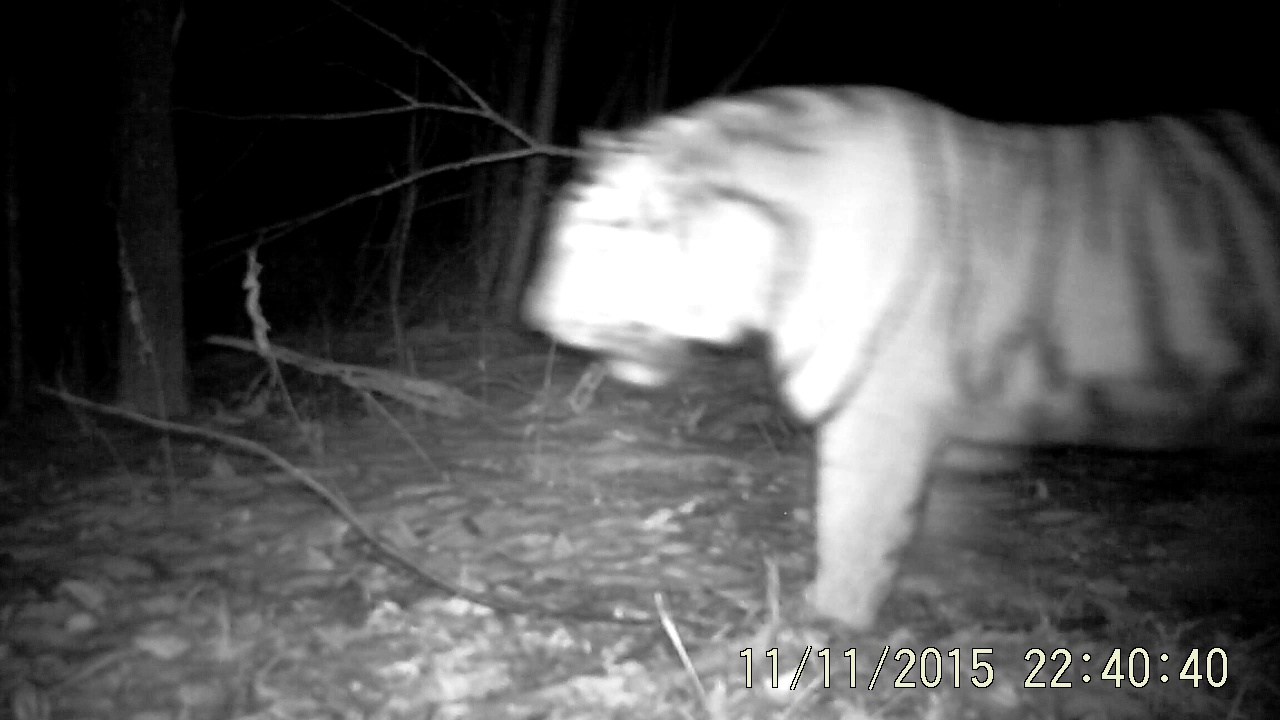Tiger: (478, 21, 1262, 622)
